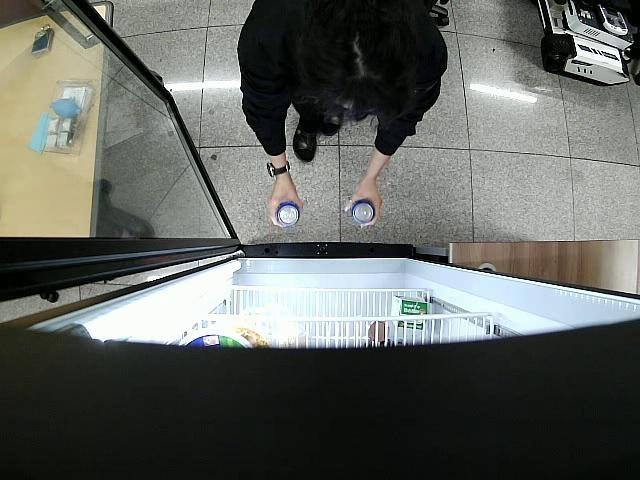13_pocariSweat: (274, 200, 300, 226), (352, 200, 376, 225)
